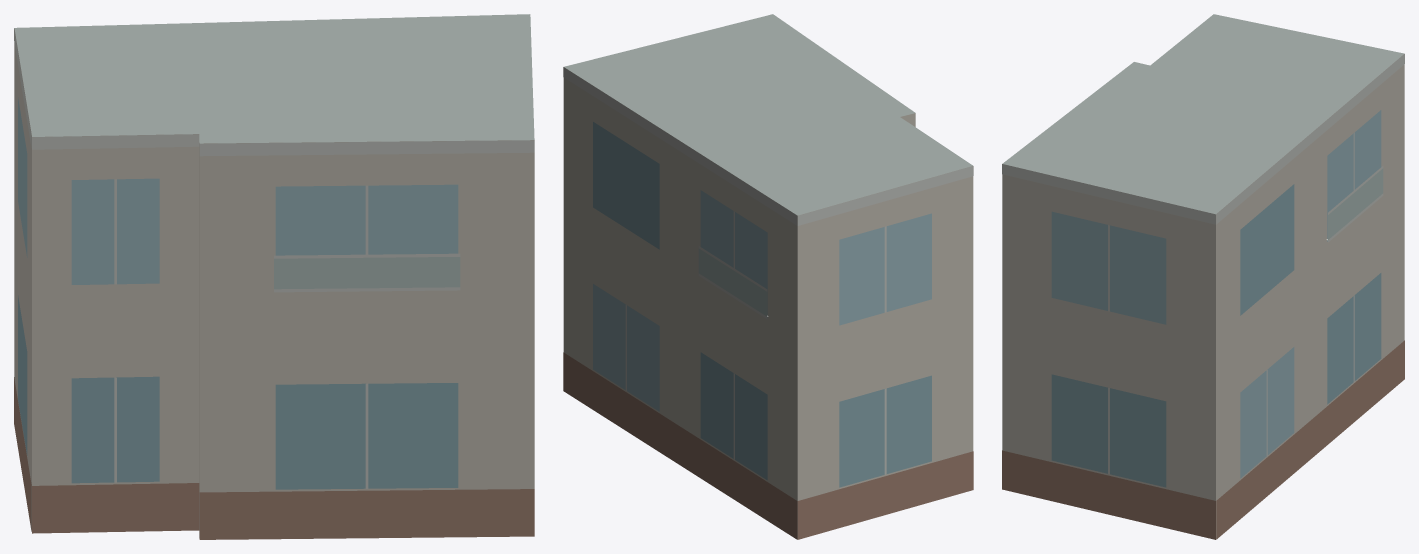
File: survey-upis-32514703.glb
3 renders of one model, left to right at view 1: azimuth 30°, elevation 25°; view 2: azimuth 150°, elevation 25°; view 3: azimuth 270°, elevation 25°, orthographic. The views are drawn at different scales.
Visible parts, largest first — view 1: survey-upis-32514703.tmp; view 2: survey-upis-32514703.tmp; view 3: survey-upis-32514703.tmp.
Boxes of the visible parts, x1,y1,x2,y2 form: survey-upis-32514703.tmp: (14,14,534,539); survey-upis-32514703.tmp: (563,14,973,539); survey-upis-32514703.tmp: (1002,14,1404,539).
Bounding box in the file's own units: 10.04 × 7.6 × 8.53.
